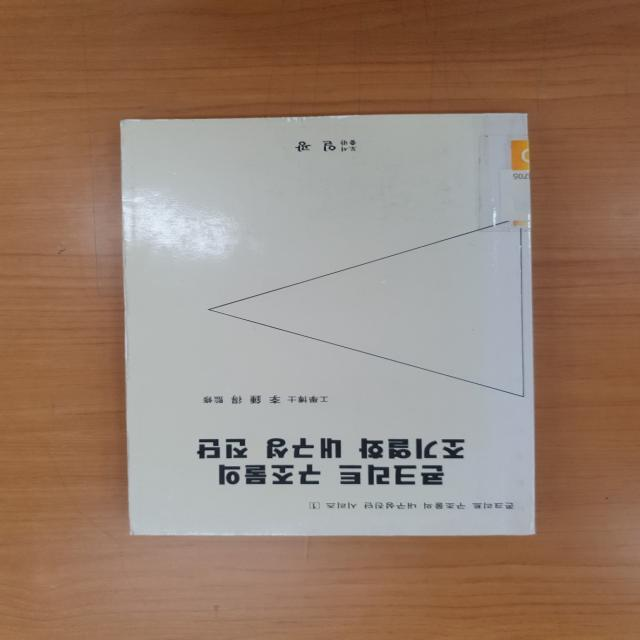Wornout: (125, 520, 241, 538), (264, 112, 374, 124), (117, 114, 181, 130)
